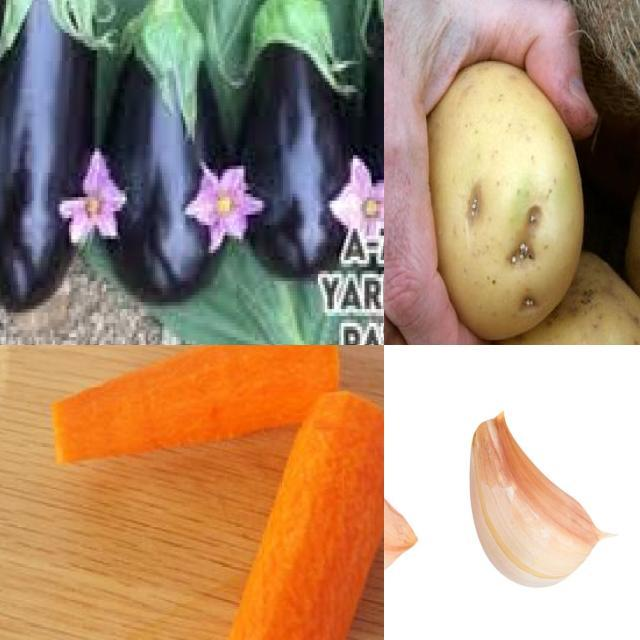carrot: (205, 398, 385, 640), (53, 346, 342, 466)
eggplant: (97, 1, 228, 296), (237, 1, 351, 278), (1, 1, 95, 313)
garlic: (468, 413, 604, 593), (385, 392, 421, 583)
potato: (429, 63, 585, 340), (467, 259, 640, 346)
